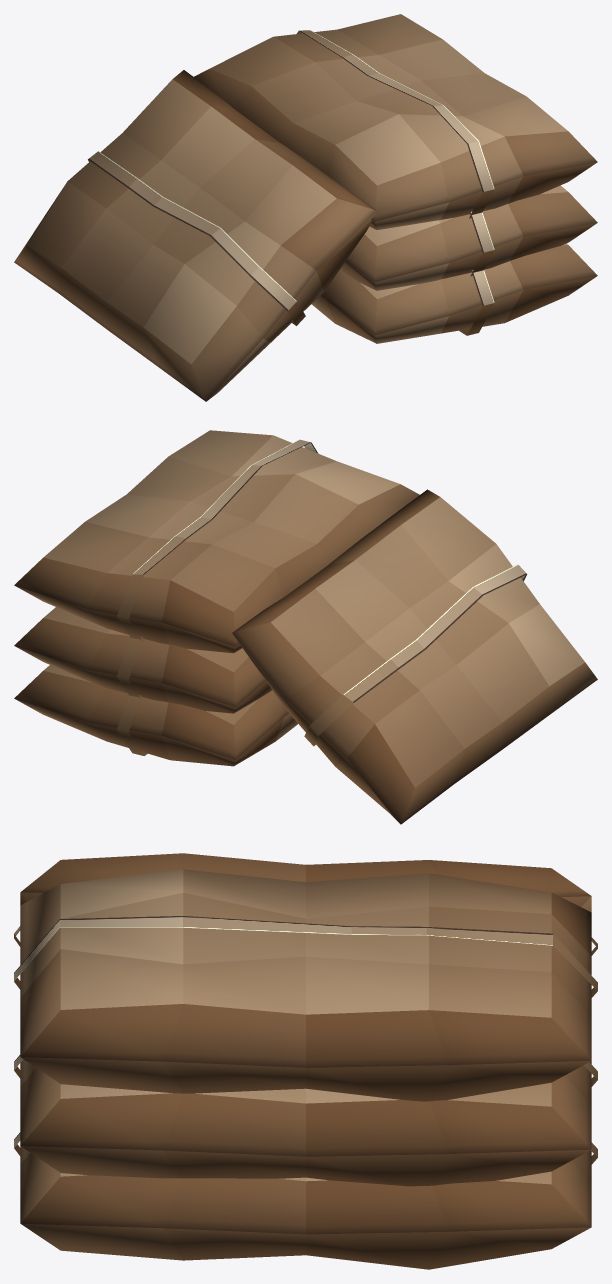
File: SandBagStack.fbx
3 views of the same model, one above another, from view 1: azimuth 30°, elevation 25°; view 2: azimuth 150°, elevation 25°; view 3: azimuth 270°, elevation 25° (orthographic). The views are drawn at different scales.
Visible parts, largest first — view 1: SandBagStack; view 2: SandBagStack; view 3: SandBagStack.
Boxes of the visible parts, left/top/right/bottom form: SandBagStack: left=14, top=14, right=597, bottom=401; SandBagStack: left=14, top=430, right=597, bottom=824; SandBagStack: left=14, top=853, right=597, bottom=1269.
Bounding box in the file's own units: 1313 × 639 × 1136.
